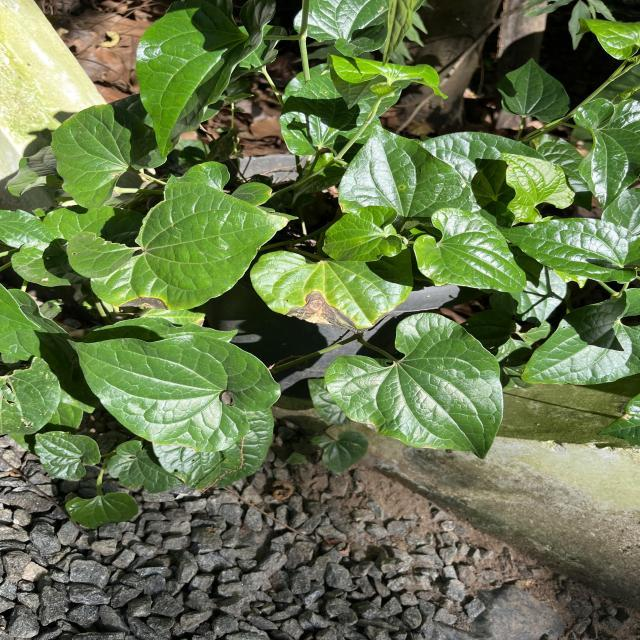Piper longum: (322, 310, 506, 462), (63, 332, 283, 453), (134, 0, 278, 162), (336, 120, 476, 222), (50, 102, 170, 212), (412, 205, 529, 294), (499, 216, 640, 285), (321, 204, 404, 263)
